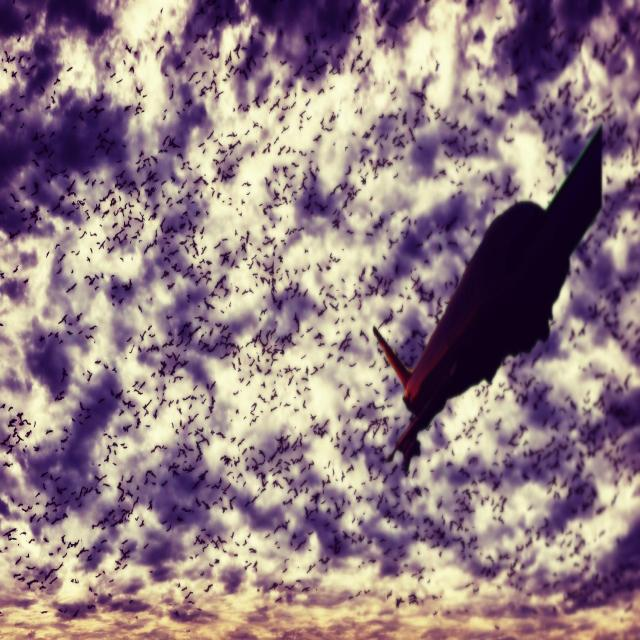airplane: (372, 120, 603, 476)
